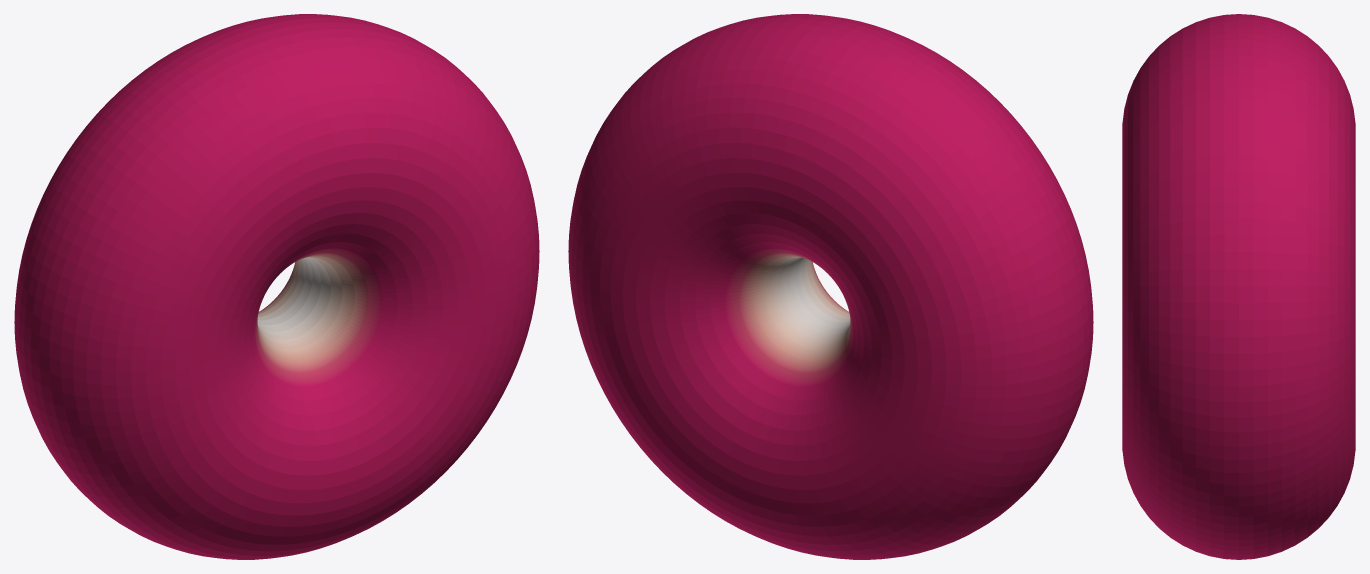
The picture shows the model from 3 angles, left to right: view 1: azimuth 30°, elevation 25°; view 2: azimuth 150°, elevation 25°; view 3: azimuth 270°, elevation 25°; orthographic projection. The views are drawn at different scales.
Visible parts, largest first — view 1: world; view 2: world; view 3: world.
Boxes of the visible parts, box(x1,y1,x2,y2) form: world: box(14, 14, 539, 559); world: box(568, 14, 1093, 559); world: box(1122, 14, 1355, 559).
Bounding box in the file's own units: 22.13 × 22.13 × 9.45.
